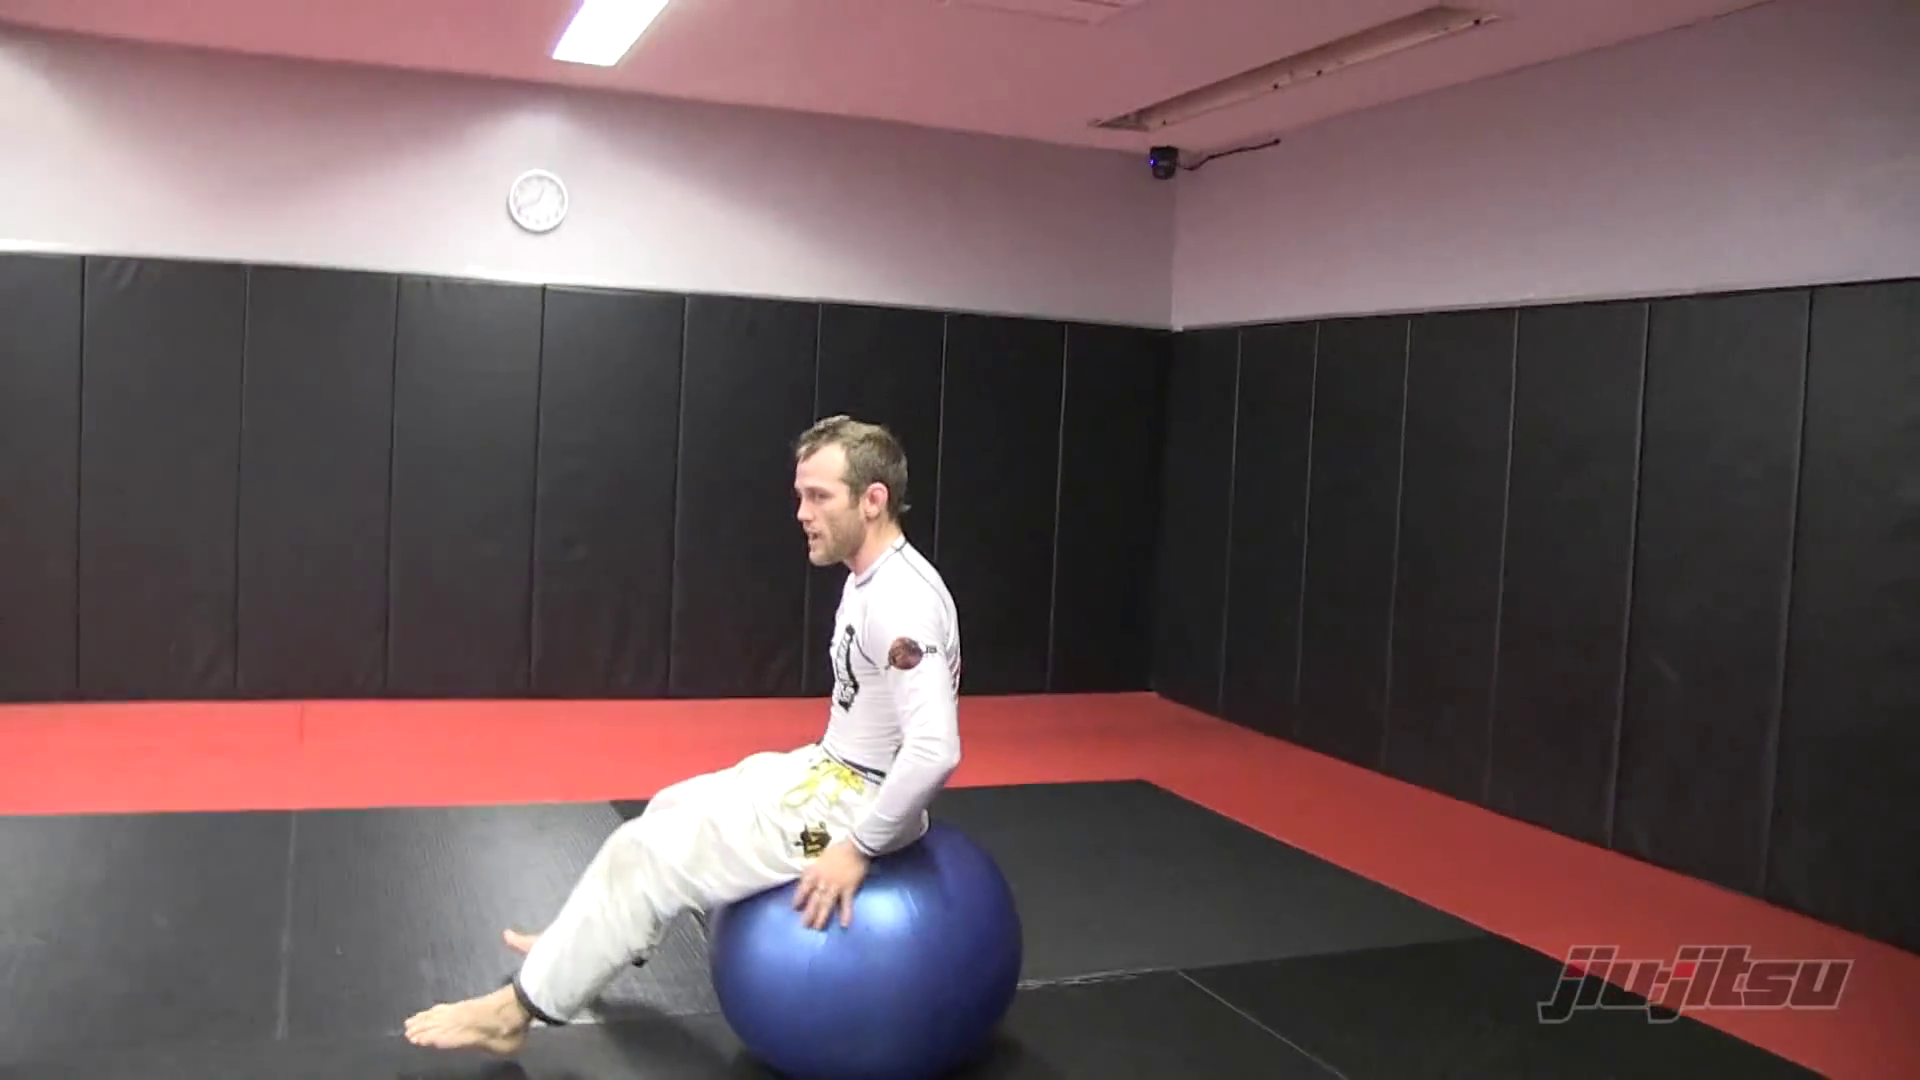yogaball: (698, 835, 1046, 1080)
